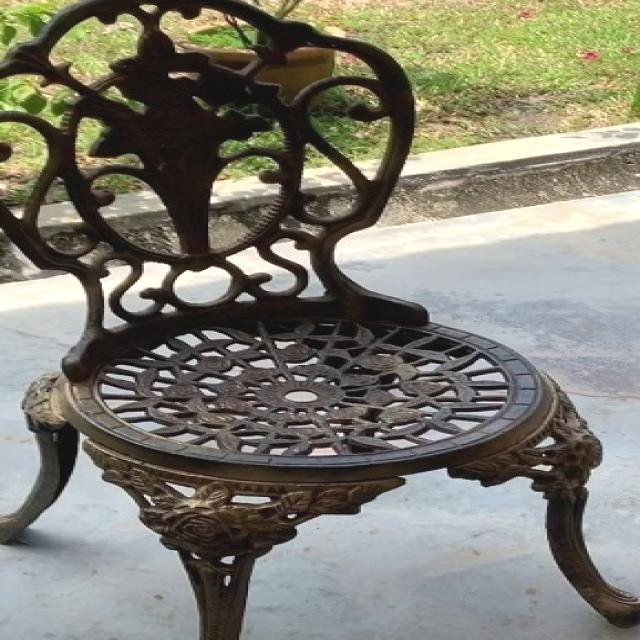Chair: (12, 4, 638, 640)
